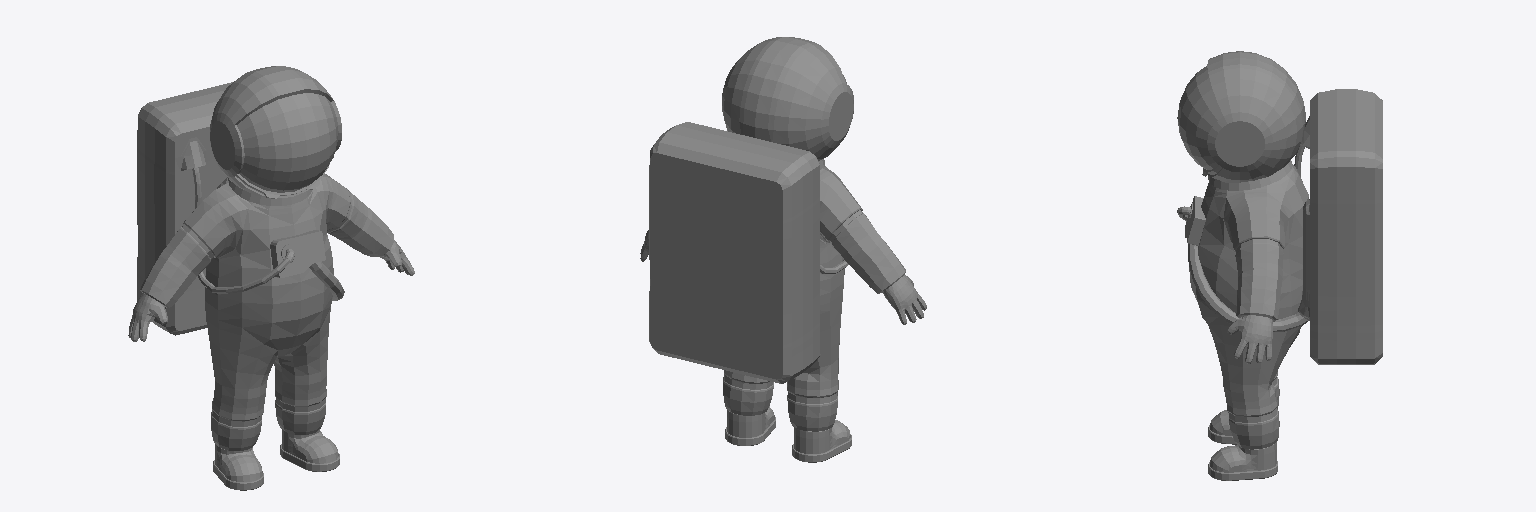
The model's file is Astronaut.obj.
3 renders of one model, left to right at view 1: azimuth 30°, elevation 25°; view 2: azimuth 150°, elevation 25°; view 3: azimuth 270°, elevation 25°, orthographic.
Parts seen in each view (by area): view 1: Astronaut; view 2: Astronaut; view 3: Astronaut.
Boxes of the visible parts, x1=… form: Astronaut: x1=128, y1=66, x2=414, y2=490; Astronaut: x1=640, y1=37, x2=926, y2=462; Astronaut: x1=1177, y1=51, x2=1382, y2=480.
Size of the model in its own units: 127 by 172 by 80.91.